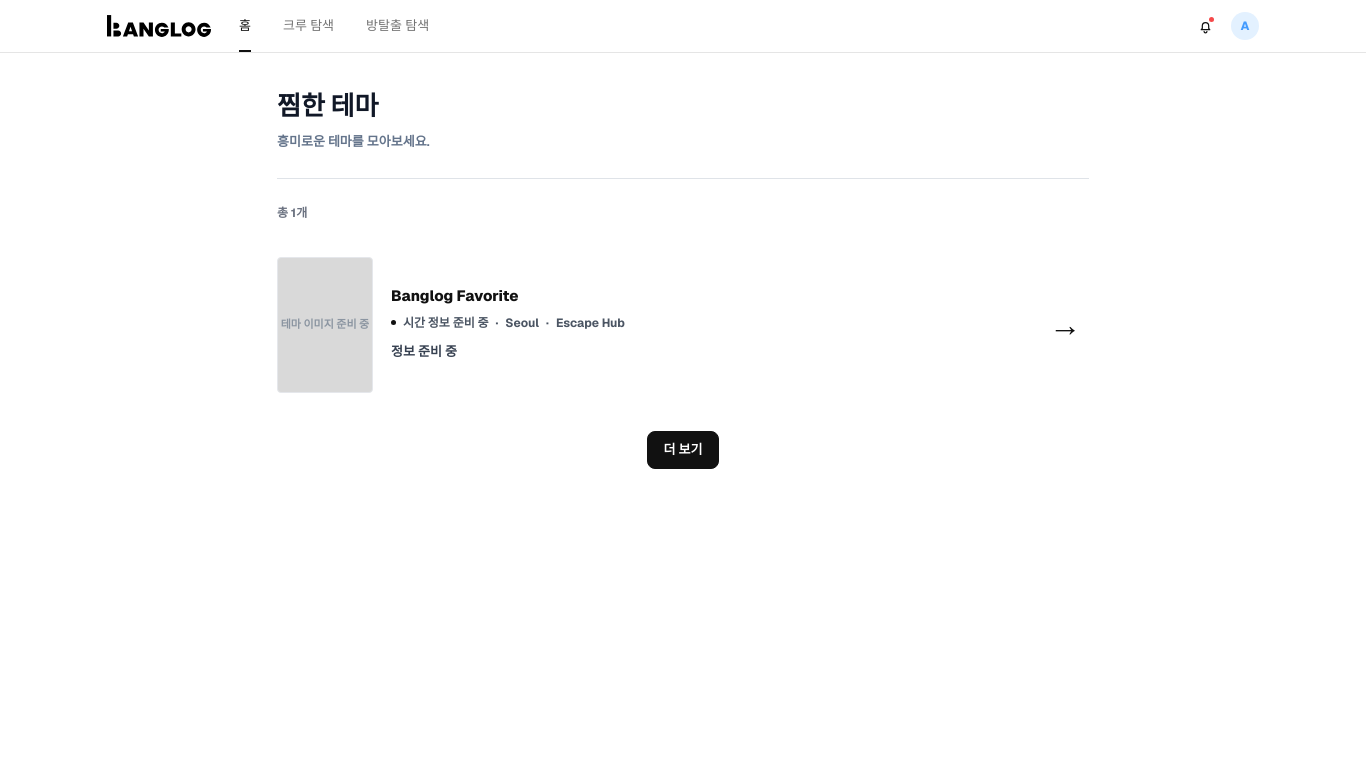
Scenario: ProfileFavoritesPage › keeps the loaded list visible when load more fails
Click the button "더 보기" at (683, 450), box x1=647 y1=431 x2=719 y2=469
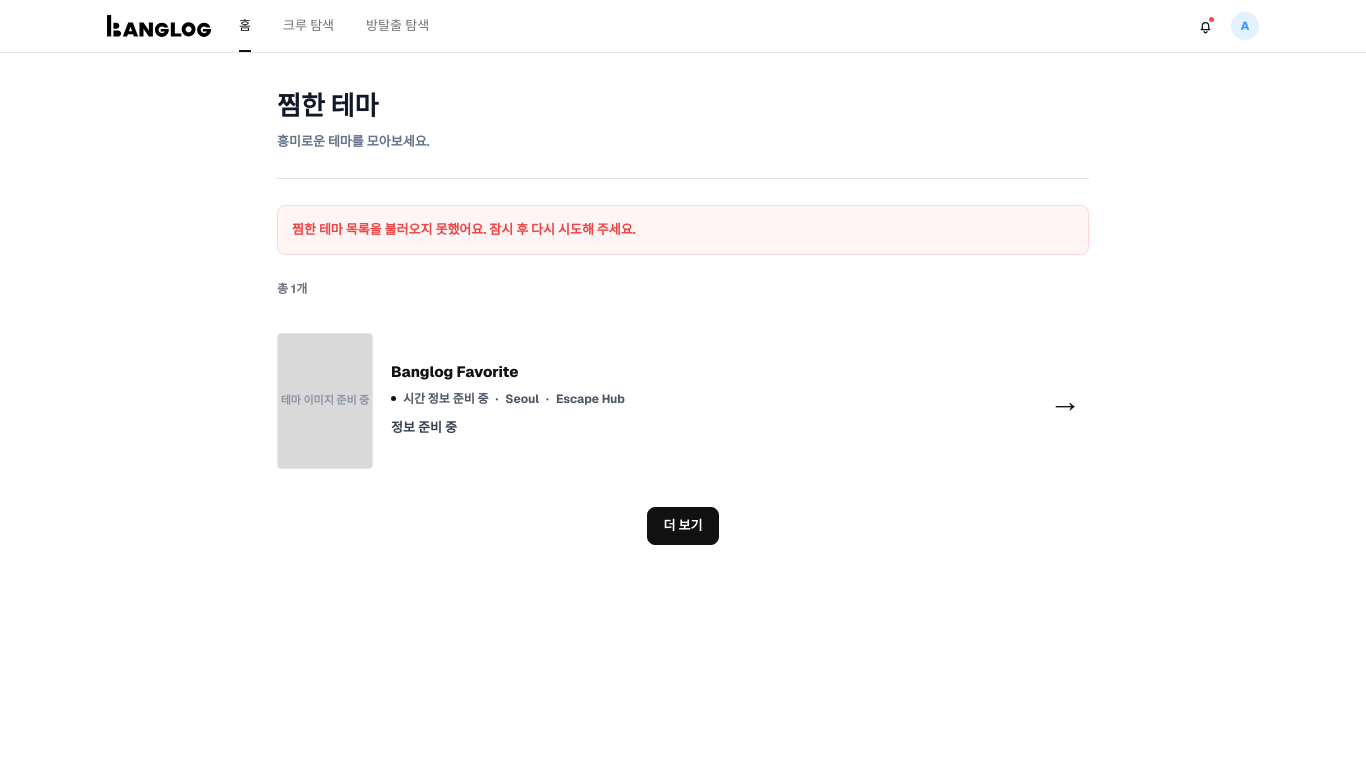
Expected: the text "Banglog Favorite" is shown, x1=391 y1=362 x2=519 y2=382
Expected: the text "찜한 테마 목록을 불러오지 못했어요. 잠시 후 다시 시도해 주세요." is shown, x1=277 y1=205 x2=1089 y2=255
